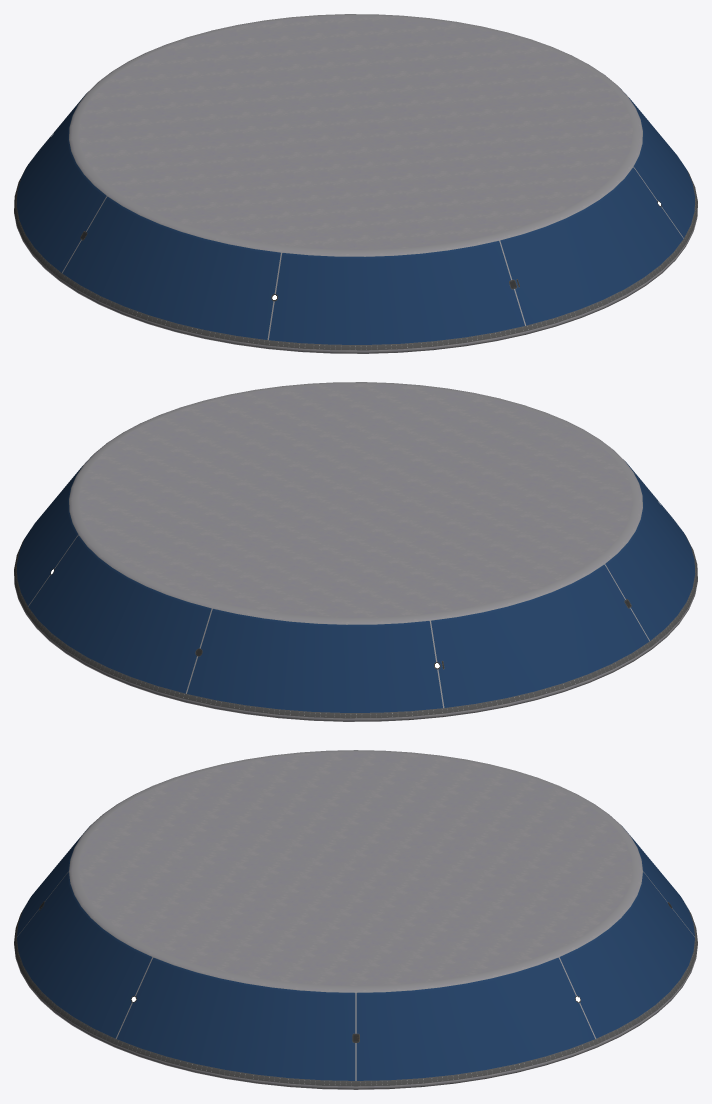
File: SM_Floor02.fbx
The picture shows the model from 3 angles, top to bottom: view 1: azimuth 30°, elevation 25°; view 2: azimuth 150°, elevation 25°; view 3: azimuth 270°, elevation 25°; orthographic projection.
Visible parts, largest first — view 1: SM_Floor02_LOD0; view 2: SM_Floor02_LOD0; view 3: SM_Floor02_LOD0.
Part boxes in pixels (x1,y1,x2,y2): SM_Floor02_LOD0: (14,14,697,353); SM_Floor02_LOD0: (14,382,697,721); SM_Floor02_LOD0: (14,750,697,1089).
Bounding box in the file's own units: 8000 × 8000 × 1000.
Materials: 3 (3 with a texture image).
